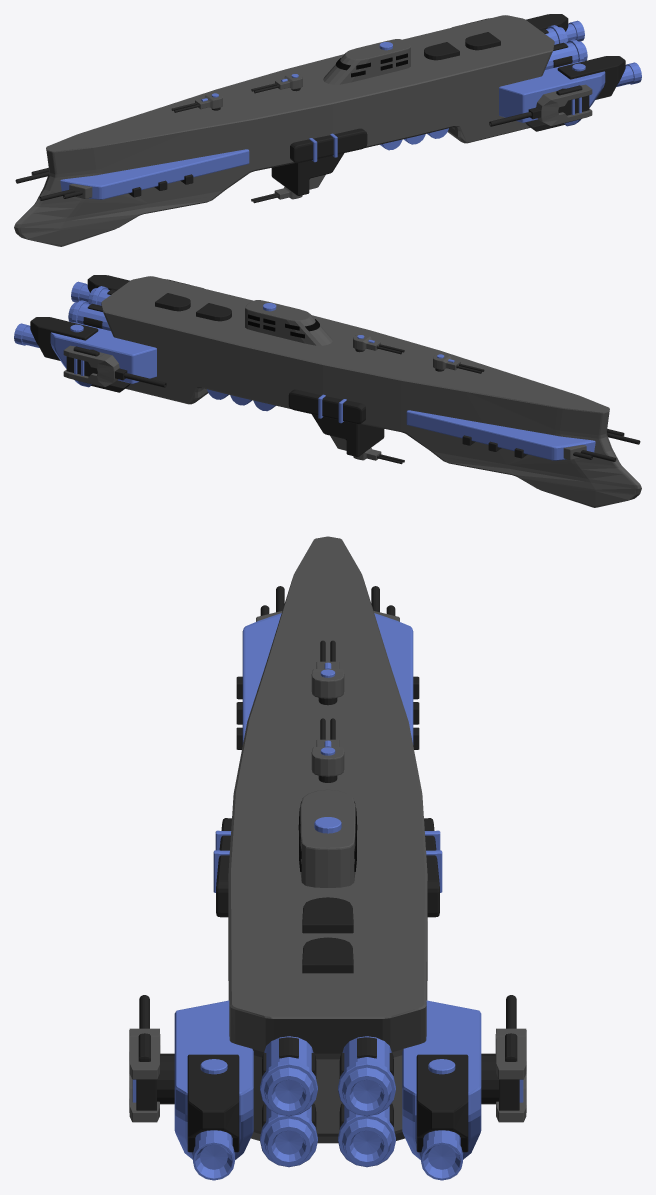
Rendered from fga_destroyer2.glb.
3 renders of one model, top to bottom at view 1: azimuth 30°, elevation 25°; view 2: azimuth 150°, elevation 25°; view 3: azimuth 270°, elevation 25°, orthographic. The views are drawn at different scales.
Visible parts, largest first — view 1: Destroyer_2; view 2: Destroyer_2; view 3: Destroyer_2.
Boxes of the visible parts, left/top/right/bottom form: Destroyer_2: left=14, top=14, right=641, bottom=246; Destroyer_2: left=14, top=275, right=641, bottom=507; Destroyer_2: left=129, top=536, right=526, bottom=1180.
Bounding box in the file's own units: 10517 × 2194 × 3046.
Materials: 1 (1 with a texture image).
